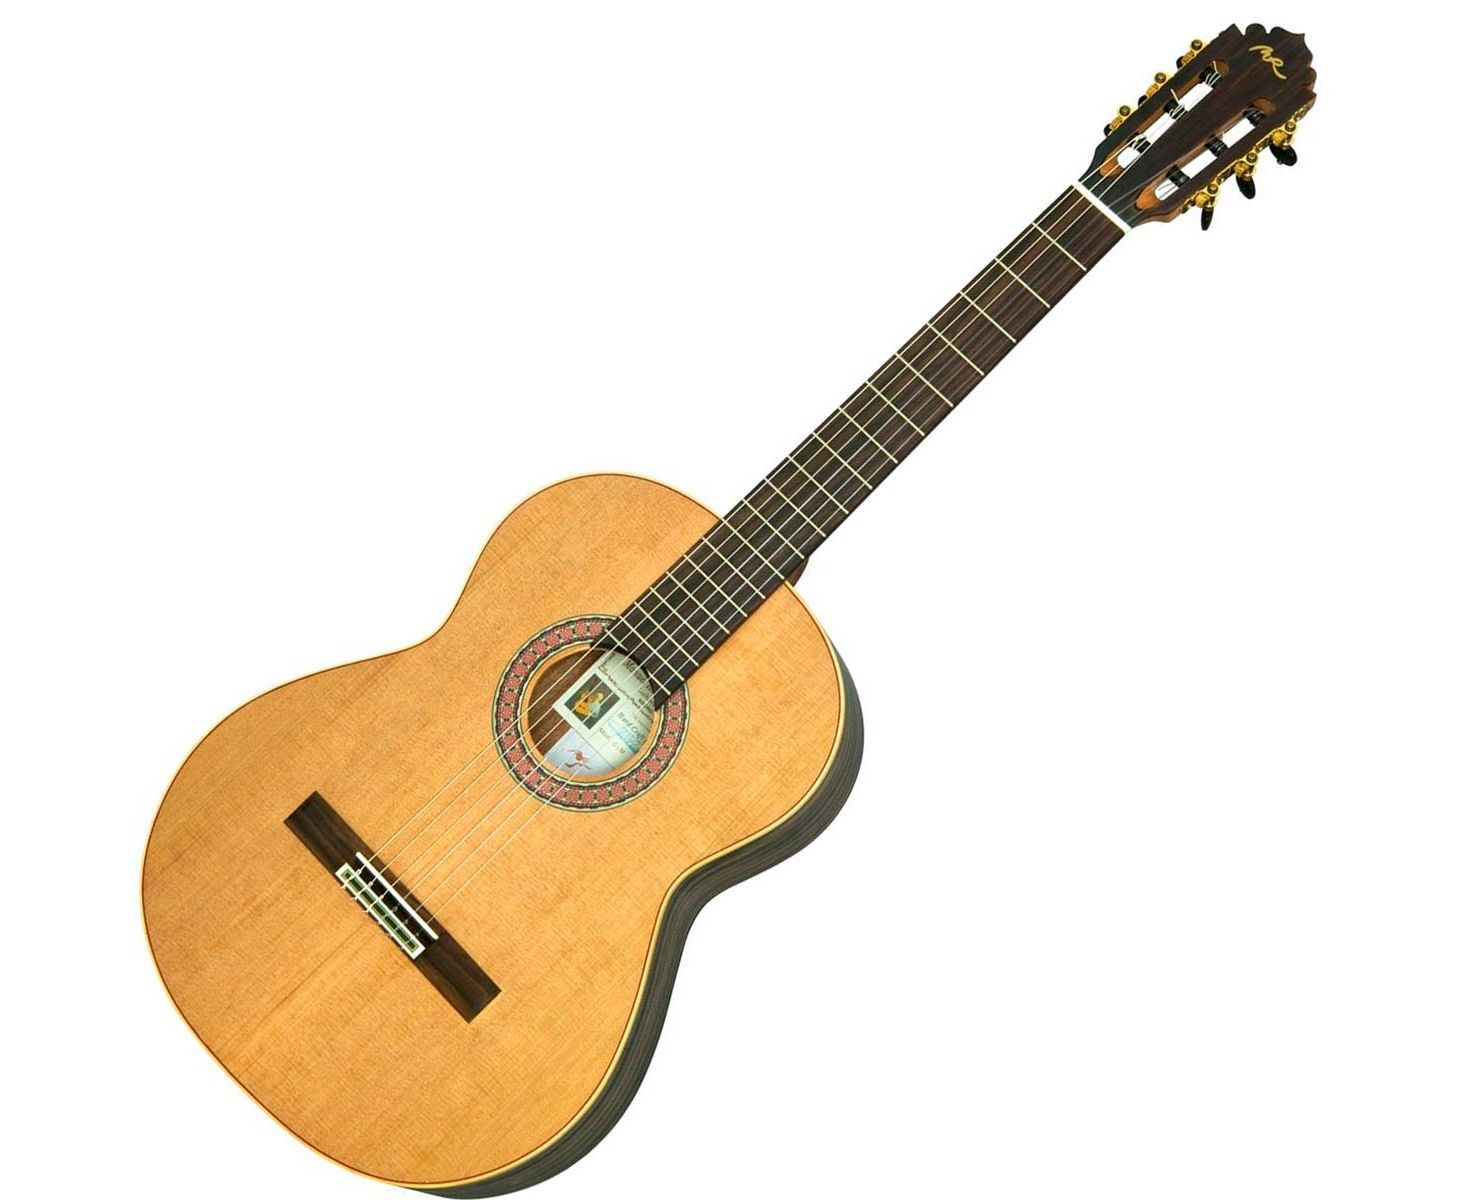0 classic: (143, 23, 1316, 1200)
